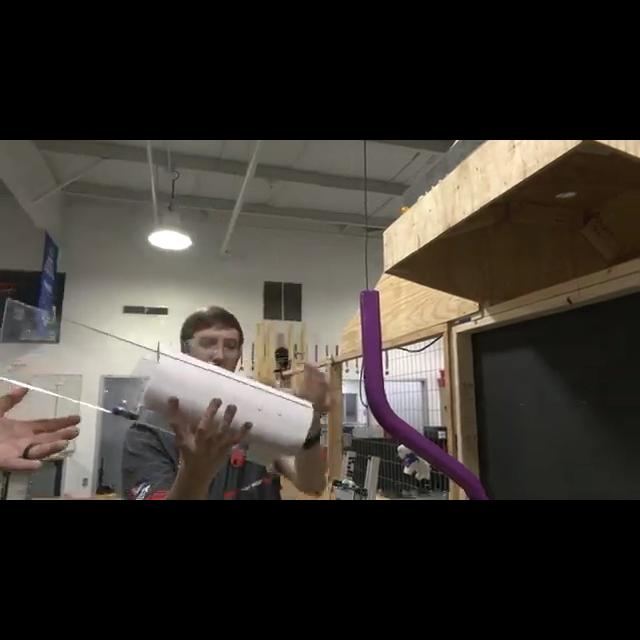CORAL: (143, 349, 315, 463)
